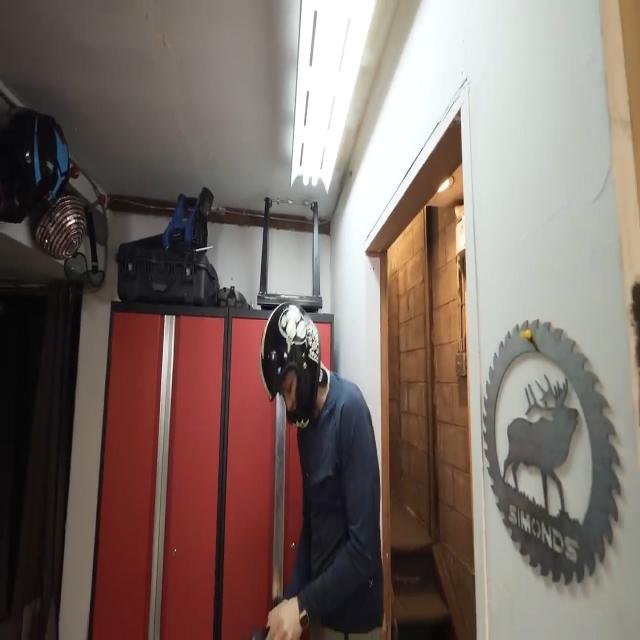Helmet_Wearer: (254, 294, 330, 434)
Person: (255, 292, 388, 640)
